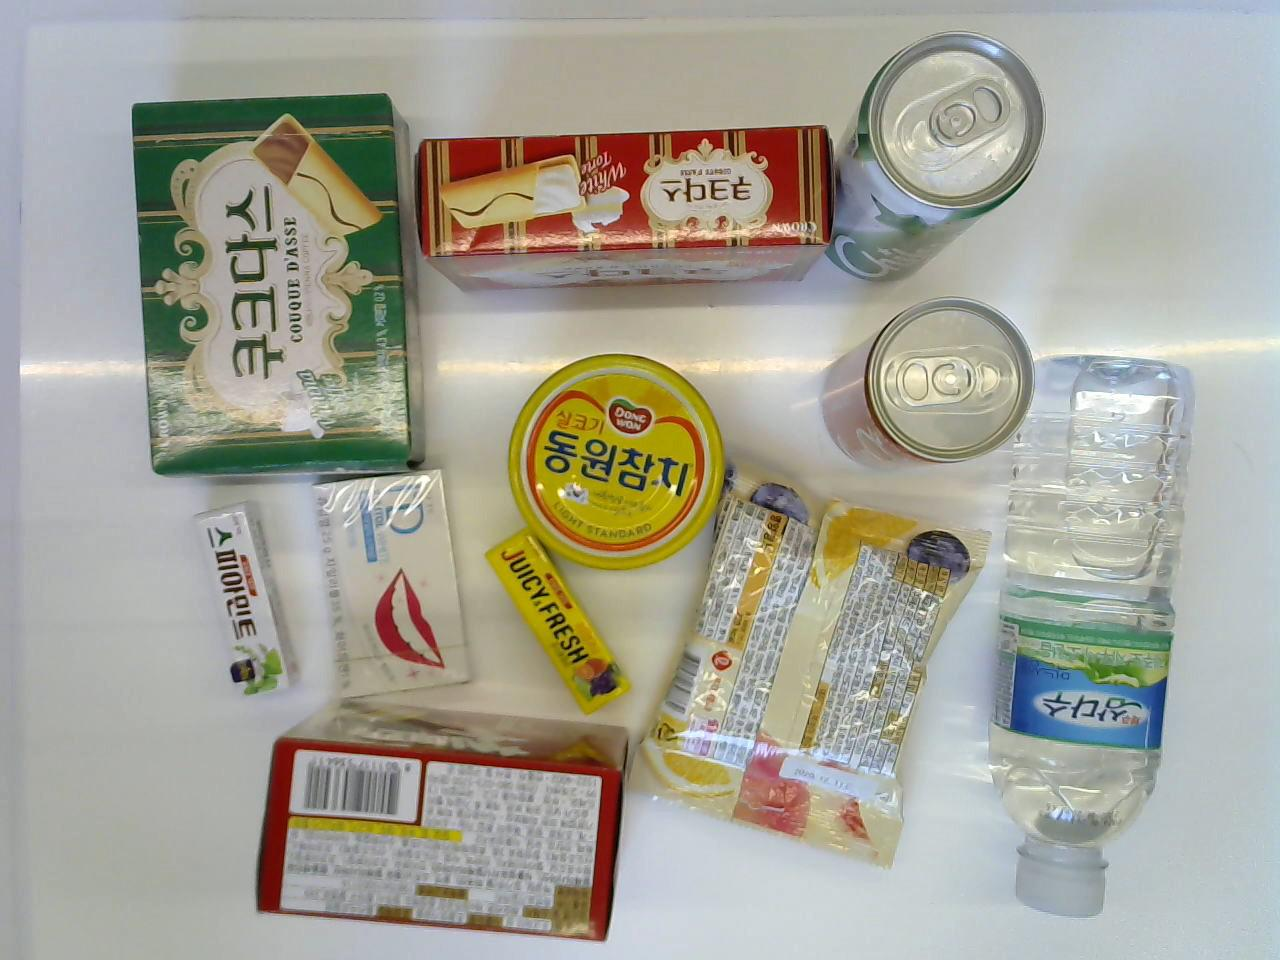ID_gum: (301, 462, 472, 706)
chocopie: (248, 710, 632, 944)
cidar: (820, 27, 1040, 290)
coke: (818, 299, 1037, 471)
couque_coffee: (127, 82, 425, 480)
couque_white: (412, 119, 833, 301)
gumi_gumi: (630, 451, 989, 873)
juicyfresh: (482, 525, 644, 716)
samdasu: (976, 350, 1190, 924)
spearmint: (187, 497, 309, 700)
tuna: (505, 347, 733, 575)
